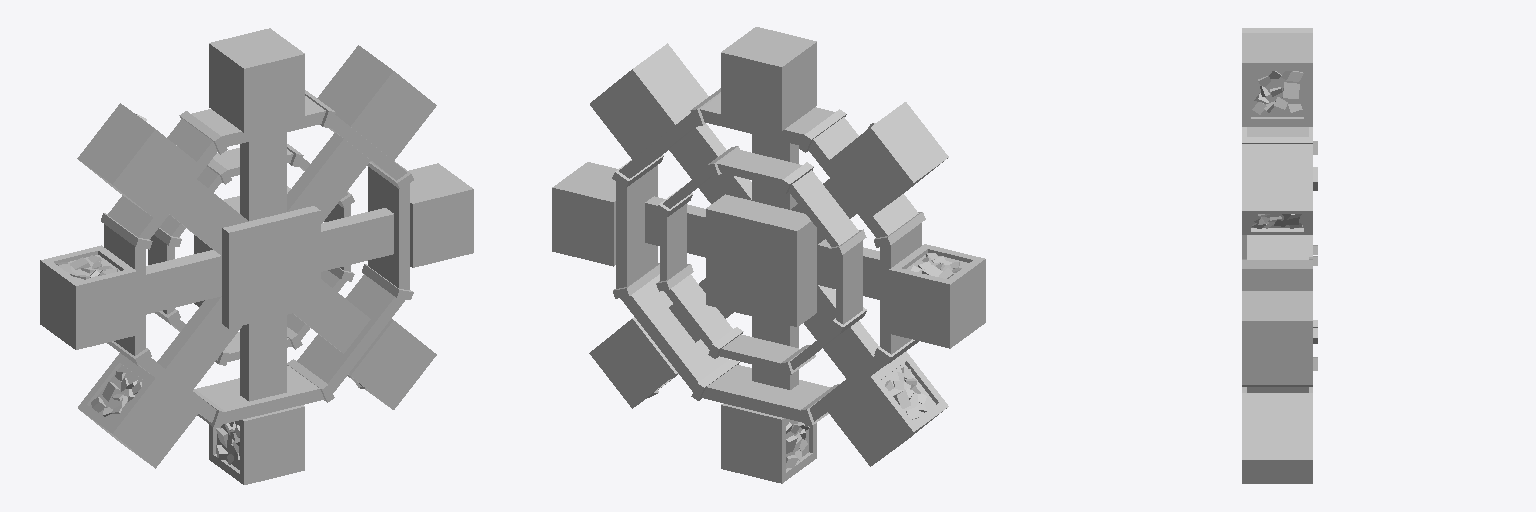
Rendered from bucketWheel.obj.
3 views of the same model, side by side, from view 1: azimuth 30°, elevation 25°; view 2: azimuth 150°, elevation 25°; view 3: azimuth 270°, elevation 25° (orthographic).
Visible parts, largest first — view 1: bucketWheel, dig3, dig2, dig4; view 2: bucketWheel, dig3, dig2, dig4; view 3: bucketWheel, dig0, dig7.
Part boxes in pixels (left/top/right/bottom): bucketWheel: left=40, top=28, right=473, bottom=484; dig3: left=90, top=365, right=144, bottom=423; dig2: left=56, top=255, right=119, bottom=280; dig4: left=216, top=422, right=239, bottom=469; bucketWheel: left=552, top=27, right=985, bottom=483; dig3: left=881, top=363, right=935, bottom=421; dig2: left=906, top=253, right=968, bottom=278; dig4: left=786, top=420, right=809, bottom=468; bucketWheel: left=1242, top=28, right=1317, bottom=483; dig0: left=1251, top=71, right=1303, bottom=116; dig7: left=1251, top=214, right=1303, bottom=228.
Size of the model in its own units: 6.5 by 6.5 by 1.06.